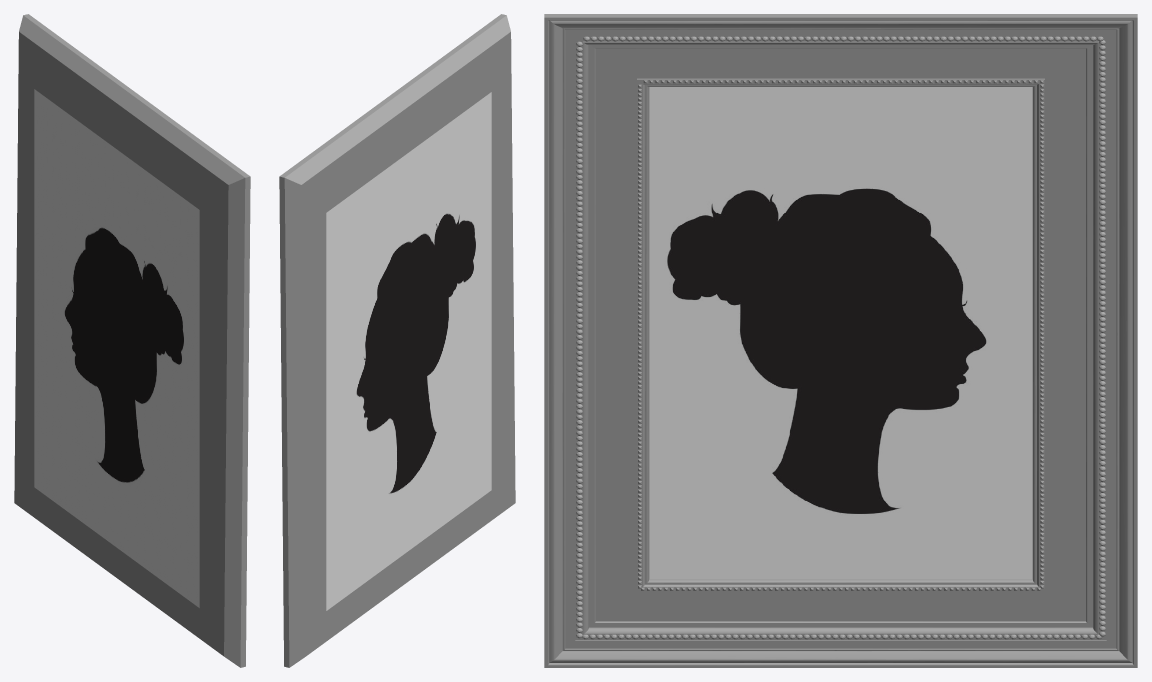
File: pictureframe_full_silhouette.fbx
The picture shows the model from 3 angles, left to right: view 1: azimuth 30°, elevation 25°; view 2: azimuth 150°, elevation 25°; view 3: azimuth 270°, elevation 25°; orthographic projection. The views are drawn at different scales.
Parts seen in each view (by area): view 1: pPlane4, vertical_frame3; view 2: pPlane4, vertical_frame3; view 3: vertical_frame3, pPlane4.
Part boxes in pixels (x1,y1,x2,y2): pPlane4: (34,89,199,607); vertical_frame3: (14,14,250,667); pPlane4: (326,92,491,610); vertical_frame3: (279,14,515,667); vertical_frame3: (544,14,1137,667); pPlane4: (649,87,1032,578).
Bounding box in the file's own units: 0.5539 × 12.58 × 10.36.
